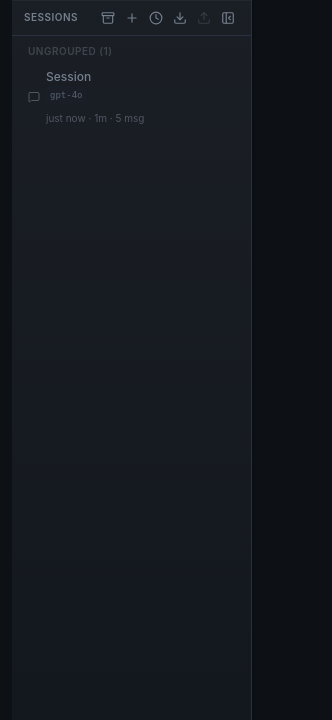
Test: Sidebar — context menu › context menu closes on Escape
Right-click the button "Session gpt-4o just now · 1m · 5 msg" at (132, 97), box [20,63,243,131]
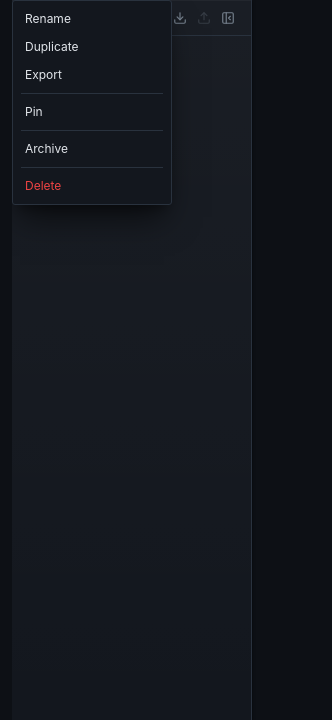
Expected: the button "Rename" is shown, [13,5,171,33]
Press Escape
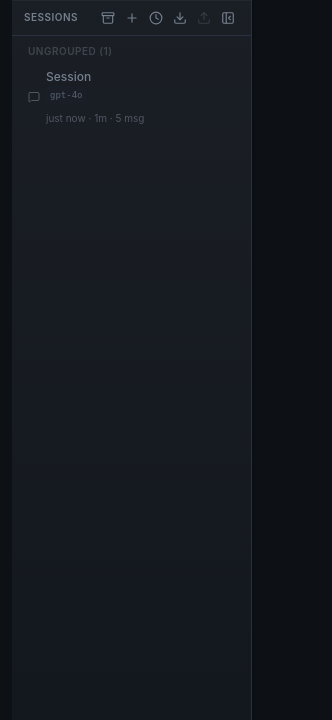
Expected: the button "Rename" is gone
